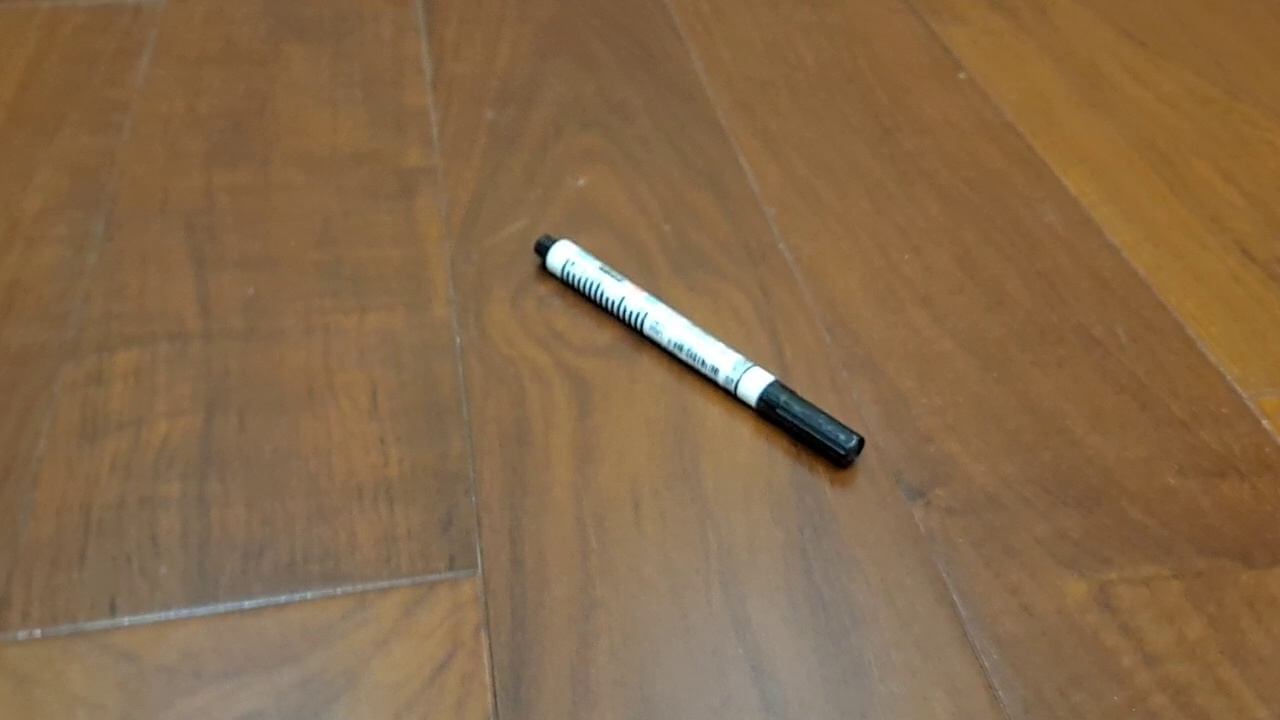pen: (533, 232, 866, 471)
